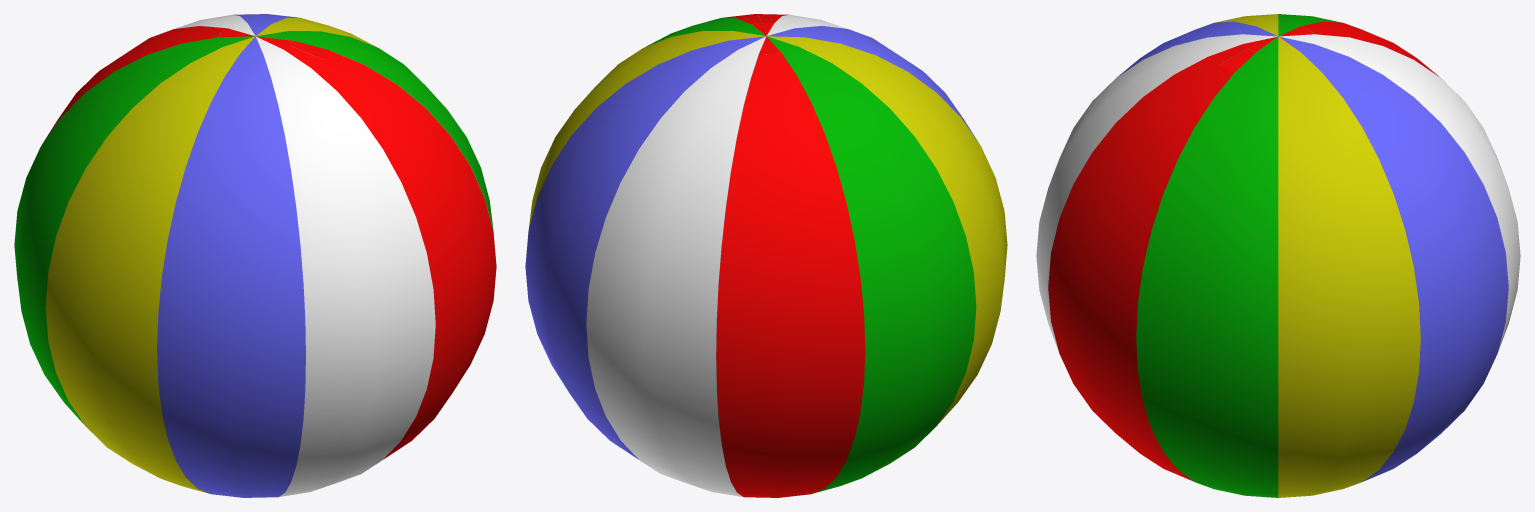
File: beach_ball.fbx
3 renders of one model, left to right at view 1: azimuth 30°, elevation 25°; view 2: azimuth 150°, elevation 25°; view 3: azimuth 270°, elevation 25°, orthographic.
Visible parts, largest first — view 1: beach_ball; view 2: beach_ball; view 3: beach_ball.
Part boxes in pixels (x1,y1,x2,y2): beach_ball: [14, 14, 496, 497]; beach_ball: [525, 14, 1007, 497]; beach_ball: [1036, 14, 1520, 497].
Bounding box in the file's own units: 61.07 × 61.07 × 61.07.
